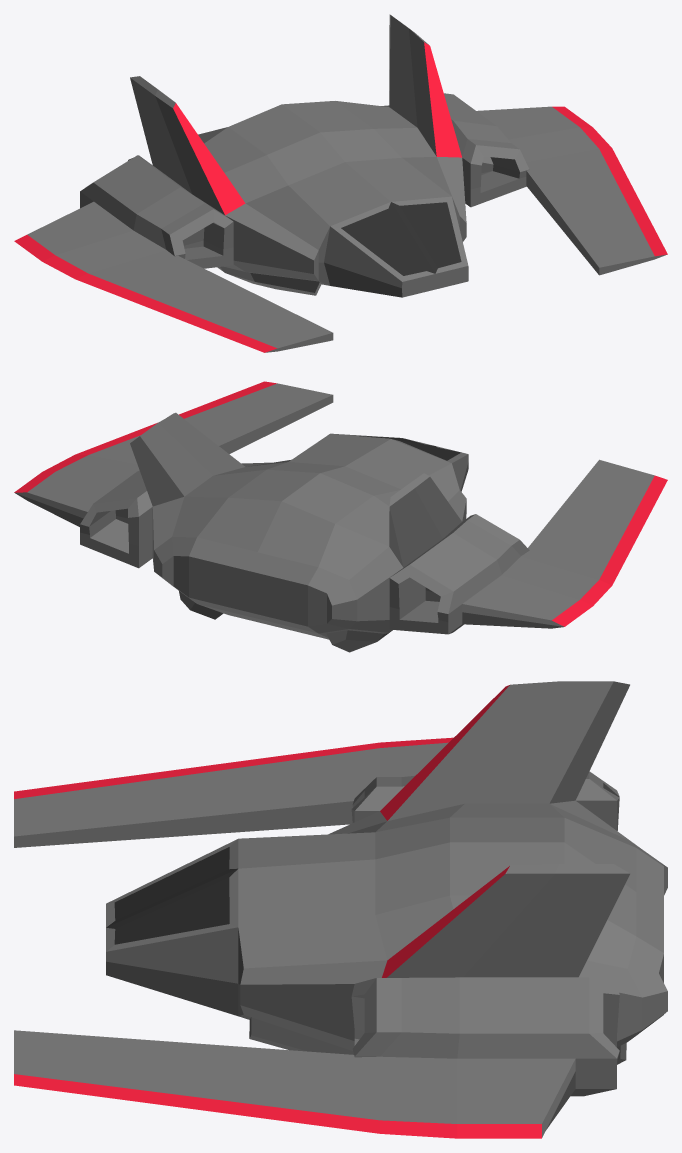
Rendered from SpaceShip (5).glb.
3 views of the same model, one above another, from view 1: azimuth 30°, elevation 25°; view 2: azimuth 150°, elevation 25°; view 3: azimuth 270°, elevation 25° (orthographic). The views are drawn at different scales.
Parts seen in each view (by area): view 1: Cube; view 2: Cube; view 3: Cube.
Boxes of the visible parts, x1,y1,x2,y2 form: Cube: (14, 14, 667, 352); Cube: (14, 381, 667, 652); Cube: (14, 681, 667, 1138).
Size of the model in its own units: 16.55 by 5.23 by 11.4.
